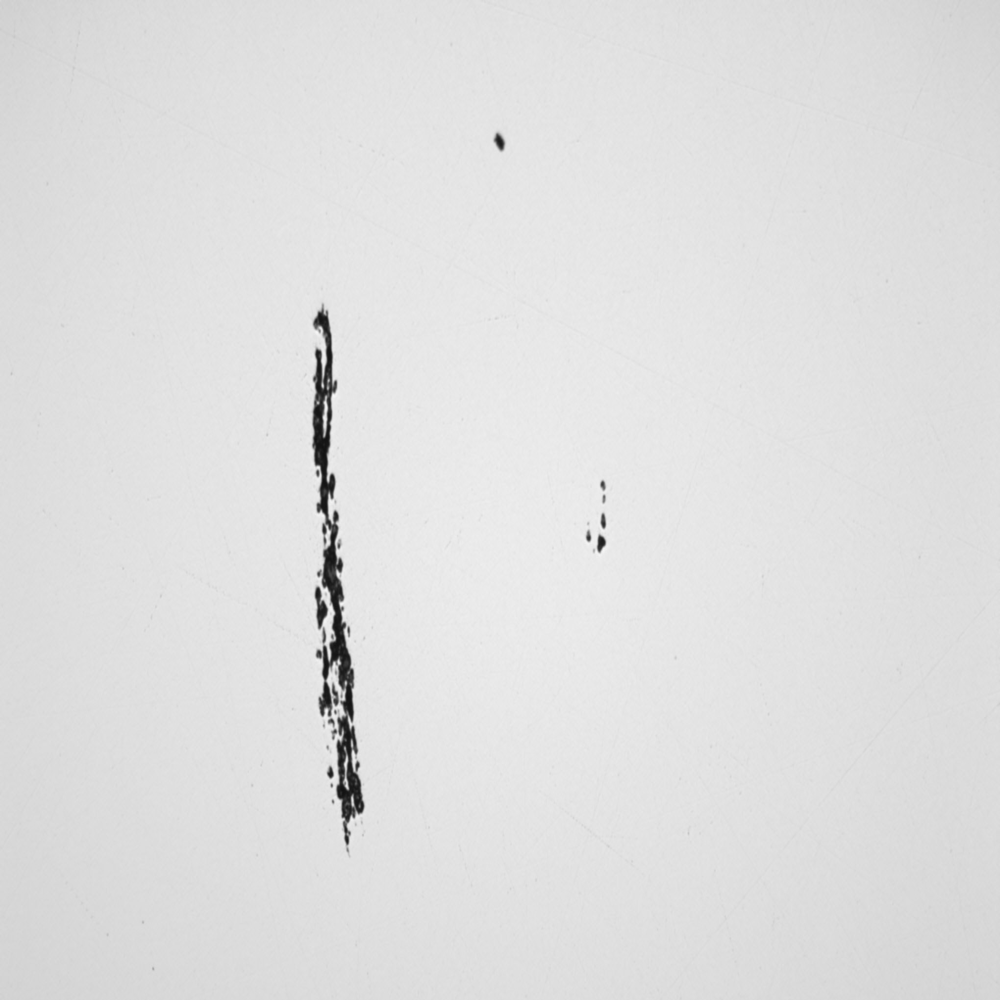crack: (284, 285, 377, 849), (574, 453, 633, 569), (489, 117, 510, 168)
